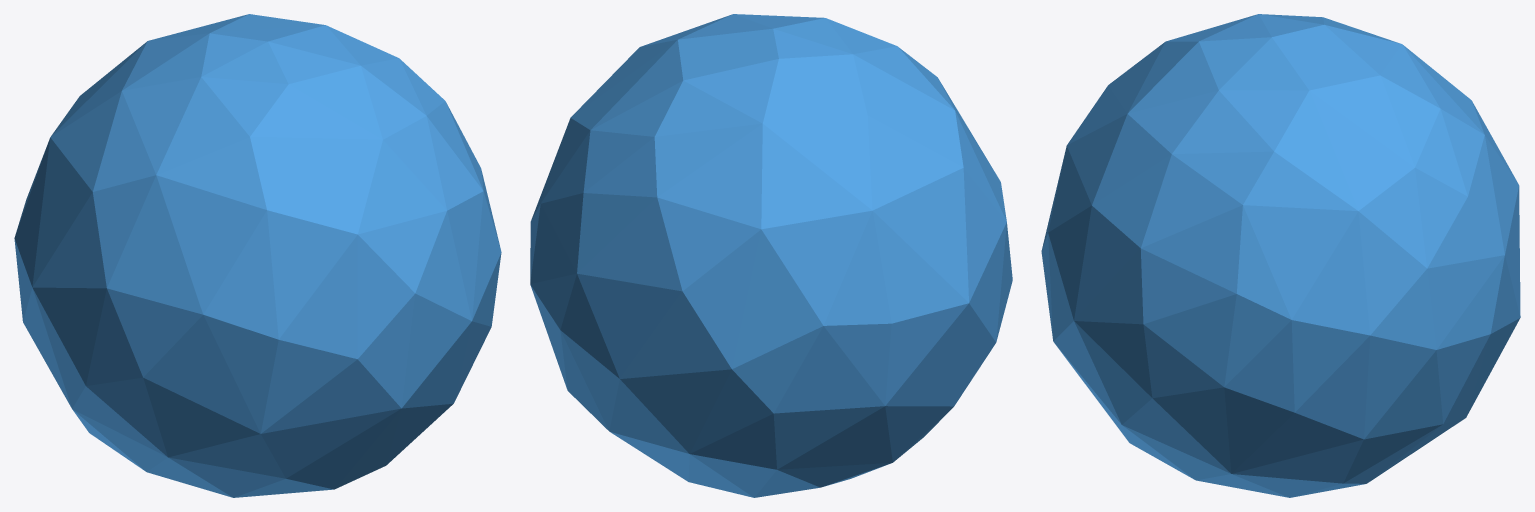
The model's file is Missile1.fbx.
The picture shows the model from 3 angles, left to right: view 1: azimuth 30°, elevation 25°; view 2: azimuth 150°, elevation 25°; view 3: azimuth 270°, elevation 25°; orthographic projection.
Visible parts, largest first — view 1: Sphere; view 2: Sphere; view 3: Sphere.
Boxes of the visible parts, box(x1,y1,x2,y2) form: Sphere: box(14, 14, 501, 497); Sphere: box(530, 14, 1012, 497); Sphere: box(1041, 14, 1520, 497).
Size of the model in its own units: 202 by 201 by 199.
